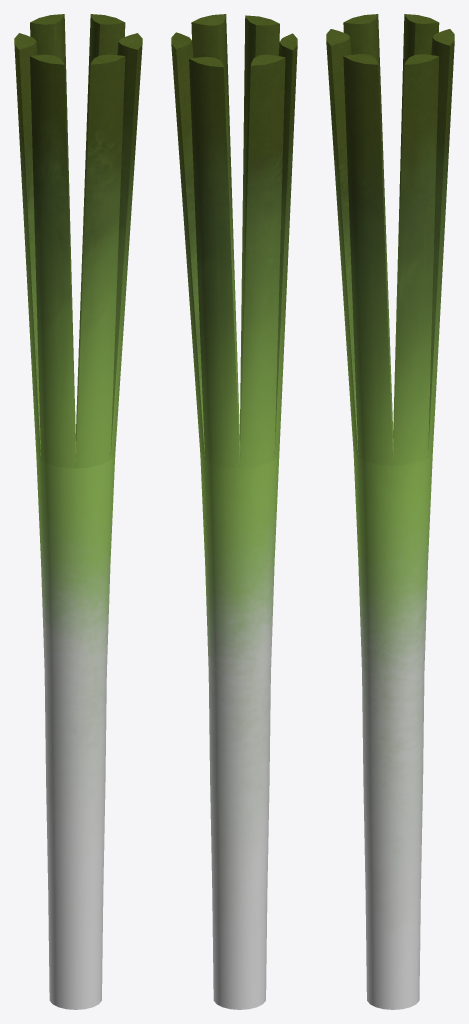
File: leek.glb
The picture shows the model from 3 angles, left to right: view 1: azimuth 90°, elevation 25°; view 2: azimuth 210°, elevation 25°; view 3: azimuth 270°, elevation 25°; orthographic projection.
Visible parts, largest first — view 1: Leek; view 2: Leek; view 3: Leek.
Part boxes in pixels (x1=…): Leek: x1=14, y1=14, x2=142, y2=1009; Leek: x1=171, y1=14, x2=297, y2=1009; Leek: x1=326, y1=14, x2=454, y2=1009.
Bounding box in the file's own units: 10.09 × 88.9 × 10.78.
Materials: 1 (1 with a texture image).
